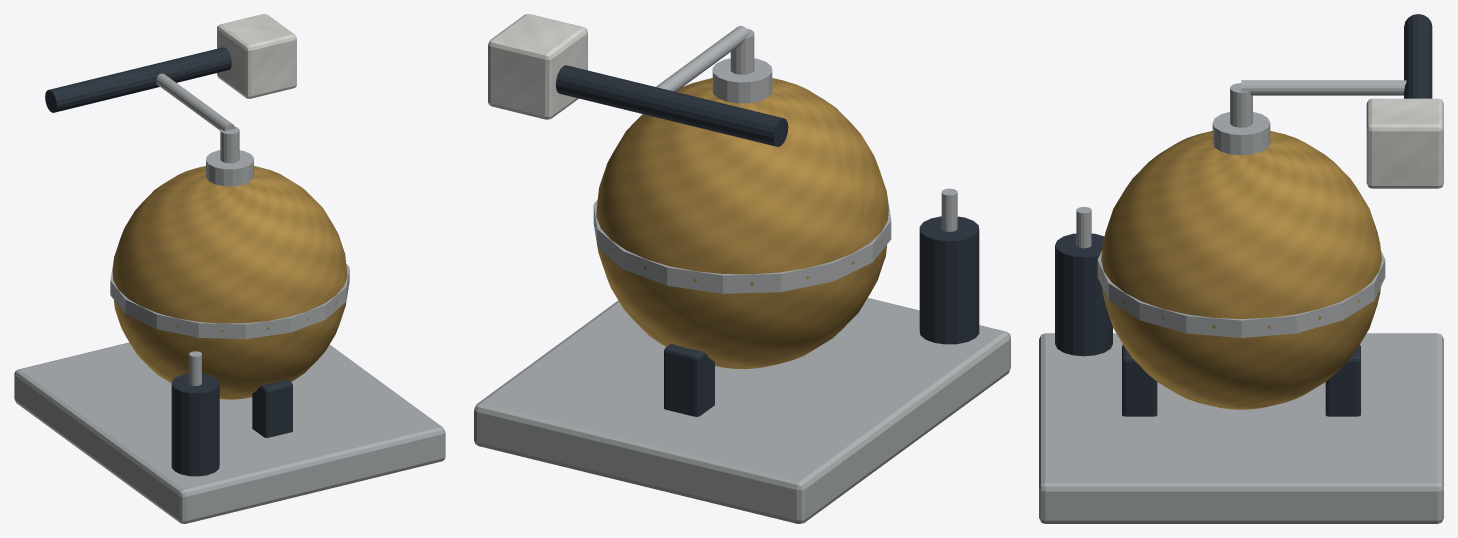
File: fuel_module_small.glb
3 renders of one model, left to right at view 1: azimuth 30°, elevation 25°; view 2: azimuth 150°, elevation 25°; view 3: azimuth 270°, elevation 25°, orthographic. The views are drawn at different scales.
Parts seen in each view (by area): view 1: Tank_MountingPlate, Propellant_PressureVessel, Valve_Controller, Pressurant_Bottle, Feed_Manifold, Tank_EquatorialBand, Tank_Cradle, Tank_EndFitting.001, Branch_Line, Tank_Outflow; view 2: Tank_MountingPlate, Propellant_PressureVessel, Valve_Controller, Pressurant_Bottle, Feed_Manifold, Tank_EquatorialBand, Tank_Cradle.001, Tank_EndFitting.001, Branch_Line, Tank_Outflow, Pressurant_Connection; view 3: Tank_MountingPlate, Propellant_PressureVessel, Valve_Controller, Pressurant_Bottle, Tank_EquatorialBand, Branch_Line, Feed_Manifold, Tank_EndFitting.001, Tank_Cradle, Tank_Cradle.001, Tank_Outflow, Pressurant_Connection.
Boxes of the visible parts, x1=… form: Tank_MountingPlate: x1=14, y1=342, x2=445, y2=523; Propellant_PressureVessel: x1=112, y1=166, x2=348, y2=399; Valve_Controller: x1=217, y1=14, x2=296, y2=98; Pressurant_Bottle: x1=171, y1=373, x2=219, y2=476; Feed_Manifold: x1=45, y1=47, x2=231, y2=112; Tank_EquatorialBand: x1=110, y1=261, x2=349, y2=338; Tank_Cradle: x1=252, y1=379, x2=292, y2=437; Tank_EndFitting.001: x1=206, y1=150, x2=253, y2=186; Branch_Line: x1=156, y1=73, x2=235, y2=131; Tank_Outflow: x1=220, y1=126, x2=239, y2=163; Tank_MountingPlate: x1=474, y1=298, x2=1010, y2=523; Propellant_PressureVessel: x1=595, y1=78, x2=888, y2=368; Valve_Controller: x1=488, y1=14, x2=587, y2=119; Pressurant_Bottle: x1=919, y1=216, x2=979, y2=344; Feed_Manifold: x1=556, y1=65, x2=788, y2=146; Tank_EquatorialBand: x1=593, y1=196, x2=891, y2=293; Tank_Cradle.001: x1=664, y1=344, x2=714, y2=416; Tank_EndFitting.001: x1=712, y1=58, x2=772, y2=103; Branch_Line: x1=656, y1=26, x2=749, y2=91; Tank_Outflow: x1=730, y1=28, x2=754, y2=74; Pressurant_Connection: x1=941, y1=188, x2=957, y2=231; Tank_MountingPlate: x1=1039, y1=333, x2=1443, y2=523; Propellant_PressureVessel: x1=1101, y1=131, x2=1381, y2=409; Valve_Controller: x1=1366, y1=98, x2=1443, y2=188; Pressurant_Bottle: x1=1055, y1=233, x2=1112, y2=356; Tank_EquatorialBand: x1=1097, y1=251, x2=1385, y2=337; Branch_Line: x1=1241, y1=80, x2=1406, y2=95; Feed_Manifold: x1=1404, y1=14, x2=1432, y2=98; Tank_EndFitting.001: x1=1212, y1=112, x2=1270, y2=155; Tank_Cradle: x1=1122, y1=344, x2=1157, y2=416; Tank_Cradle.001: x1=1325, y1=344, x2=1360, y2=416; Tank_Outflow: x1=1230, y1=83, x2=1252, y2=127; Pressurant_Connection: x1=1076, y1=207, x2=1091, y2=248.
Bounding box in the file's own units: 0.57 × 0.675 × 0.63.
Materials: 4 (2 with a texture image).
